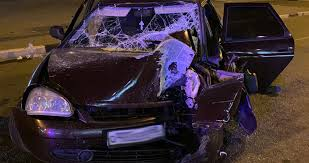car: (34, 1, 271, 160)
